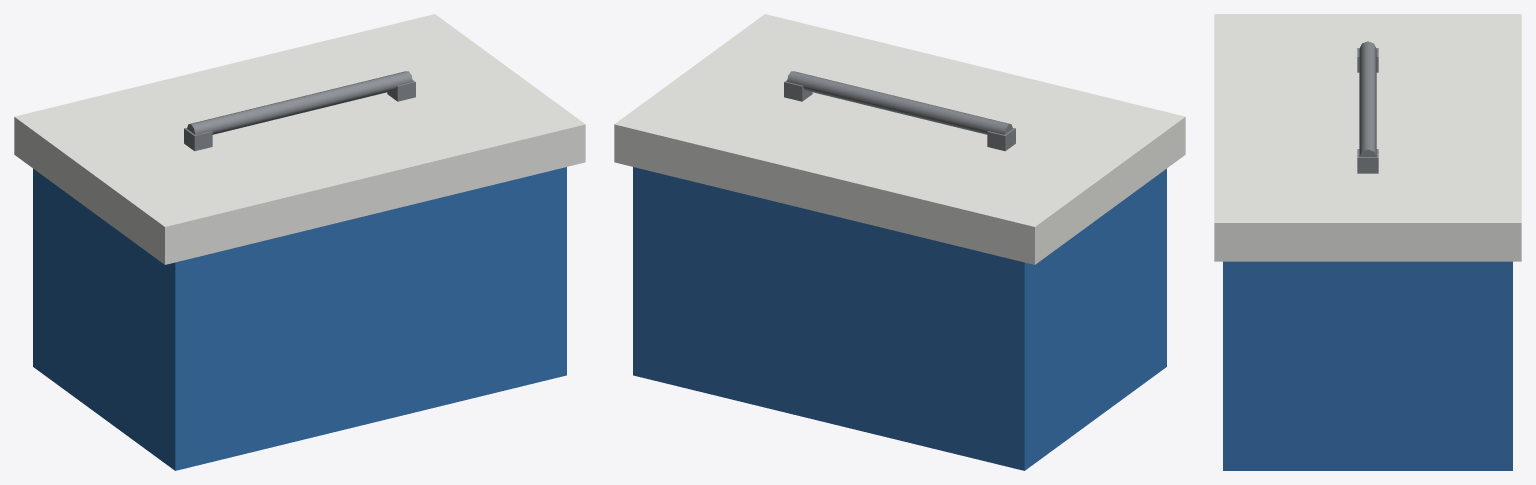
Rendered from cooler.glb.
3 renders of one model, left to right at view 1: azimuth 30°, elevation 25°; view 2: azimuth 150°, elevation 25°; view 3: azimuth 270°, elevation 25°, orthographic.
Parts seen in each view (by area): view 1: Cooler_Body, Cooler_Lid, Cooler_Handle; view 2: Cooler_Body, Cooler_Lid, Cooler_Handle; view 3: Cooler_Lid, Cooler_Body, Cooler_Handle, Cooler_PostR.
Part boxes in pixels (x1,y1,x2,y2): Cooler_Body: (33,167,566,470); Cooler_Lid: (14,14,585,264); Cooler_Handle: (187,71,412,134); Cooler_Body: (633,167,1166,470); Cooler_Lid: (614,14,1185,264); Cooler_Handle: (787,71,1012,134); Cooler_Lid: (1214,14,1521,261); Cooler_Body: (1223,261,1512,470); Cooler_Handle: (1359,41,1376,156); Cooler_PostR: (1357,149,1378,173).
Size of the model in its own units: 0.58 by 0.36 by 0.36.
